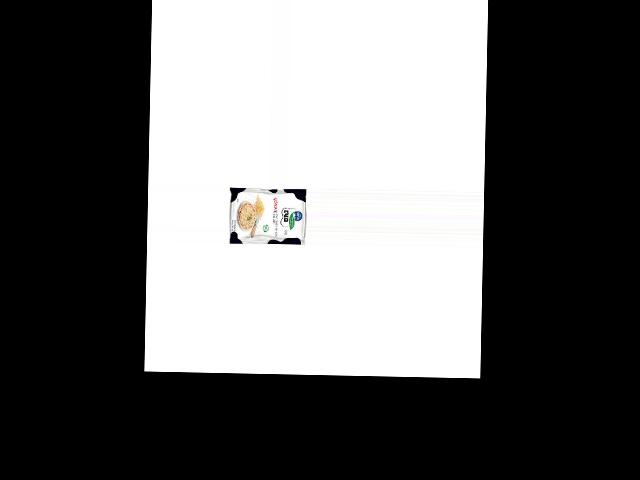cheese: (227, 185, 307, 246)
